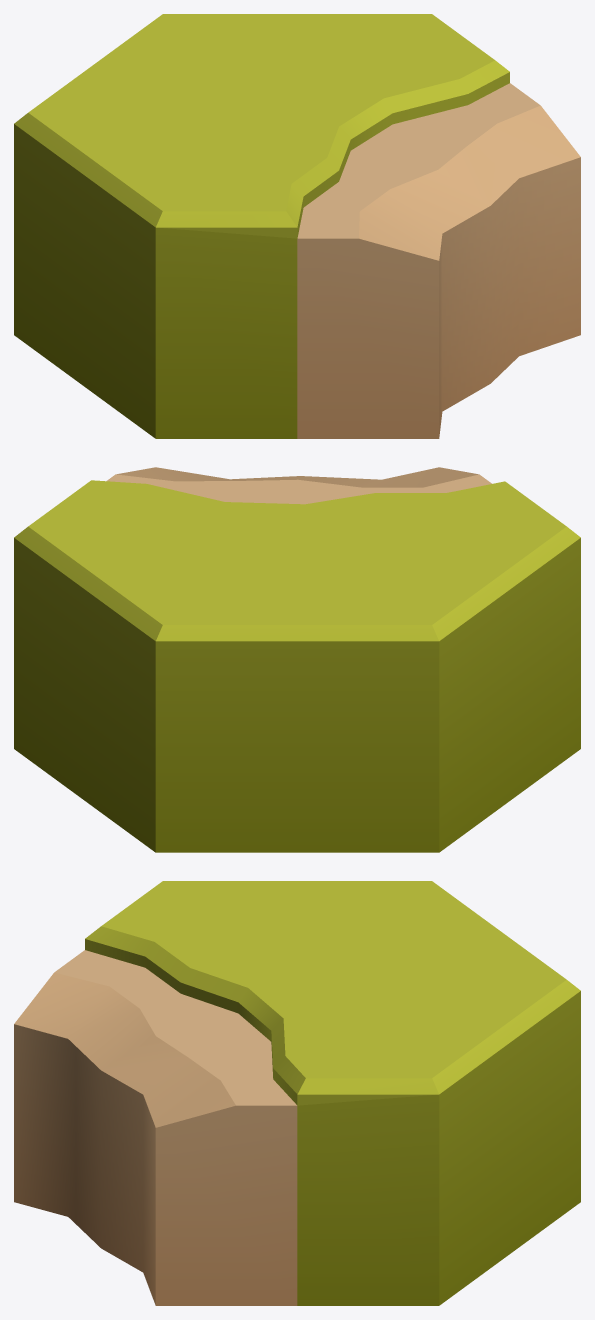
Rendered from hex-coast-a-waterless.glb.
3 renders of one model, top to bottom at view 1: azimuth 30°, elevation 25°; view 2: azimuth 150°, elevation 25°; view 3: azimuth 270°, elevation 25°, orthographic.
Visible parts, largest first — view 1: hex_coast_A_waterless; view 2: hex_coast_A_waterless; view 3: hex_coast_A_waterless.
Boxes of the visible parts, <box> form: hex_coast_A_waterless: <box>14,14,580,438</box>; hex_coast_A_waterless: <box>14,467,580,852</box>; hex_coast_A_waterless: <box>14,881,580,1305</box>.
Bounding box in the file's own units: 2 × 1 × 2.31.
1 material, 1 textured.
